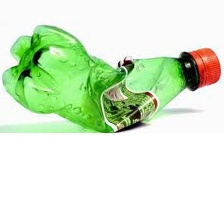bottle: (3, 20, 220, 137)
